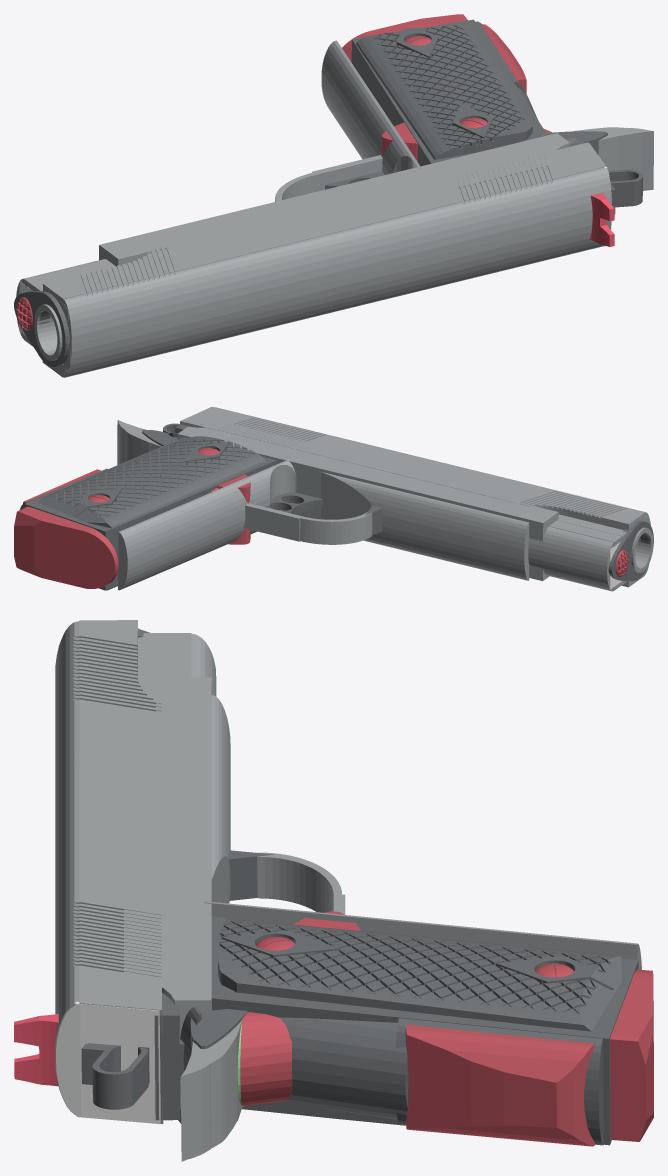
The model's file is tinker.glb.
3 renders of one model, top to bottom at view 1: azimuth 30°, elevation 25°; view 2: azimuth 150°, elevation 25°; view 3: azimuth 270°, elevation 25°, orthographic. The views are drawn at different scales.
Visible parts, largest first — view 1: Node1; view 2: Node1; view 3: Node1.
Boxes of the visible parts, x1,y1,x2,y2 form: Node1: [14, 14, 653, 377]; Node1: [14, 406, 653, 591]; Node1: [14, 620, 653, 1161].
Bounding box in the file's own units: 98.8 × 15.86 × 59.78.
